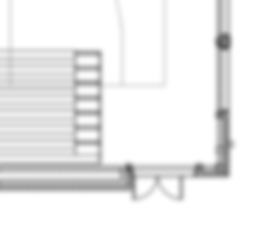double door: (131, 175, 185, 202)
wall: (1, 164, 123, 174), (1, 178, 128, 186), (215, 111, 226, 173), (195, 163, 221, 174), (119, 164, 129, 185)
